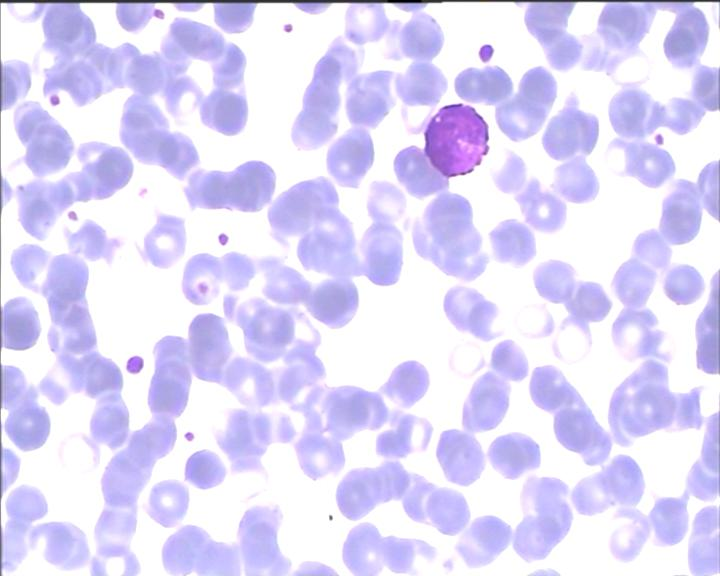baso: (420, 97, 491, 181)
